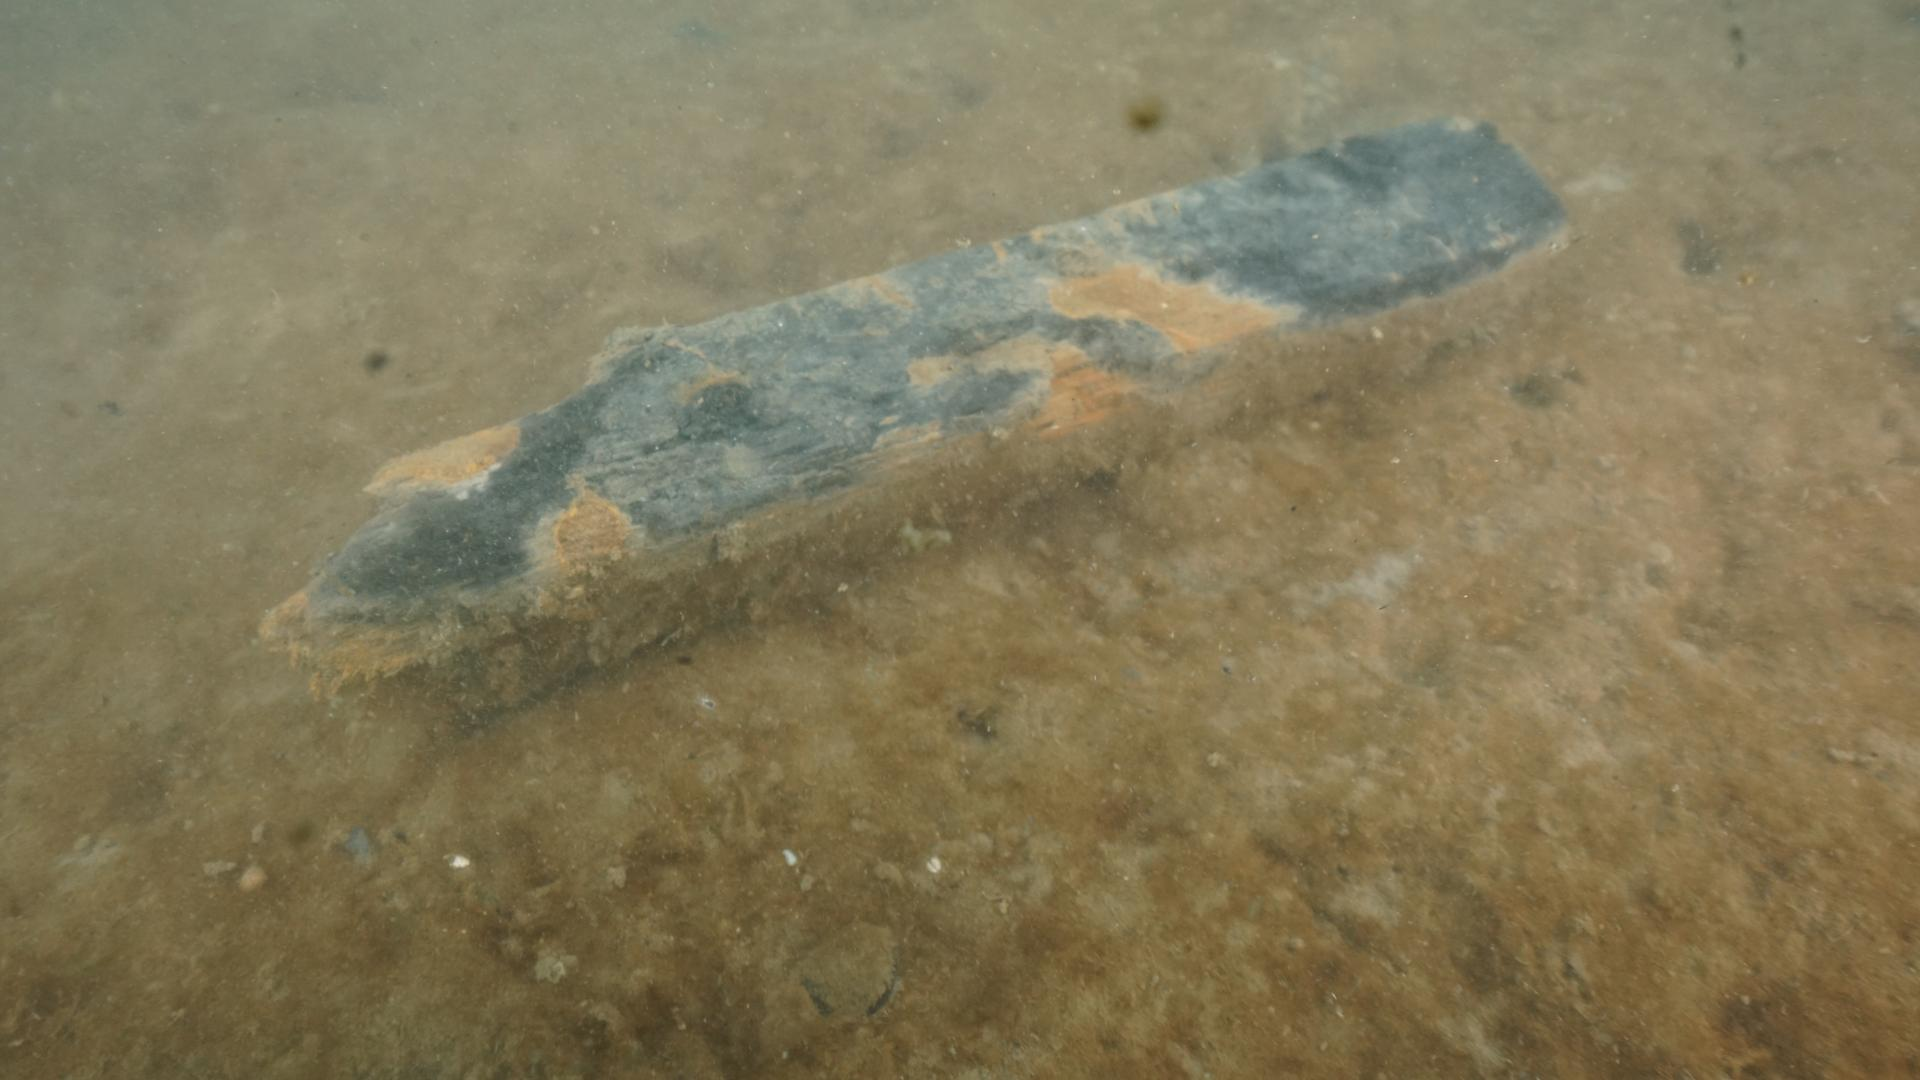wood: (253, 98, 1581, 752)
